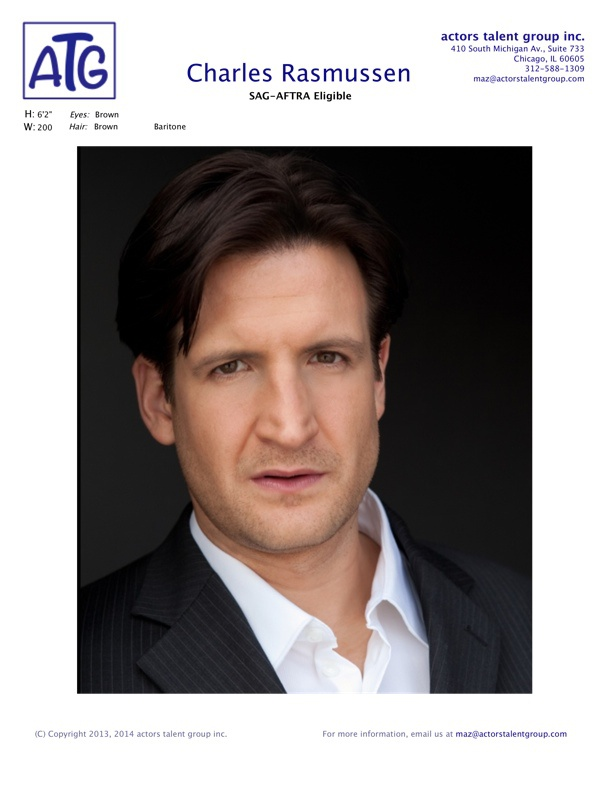bad: (167, 316, 390, 539)
